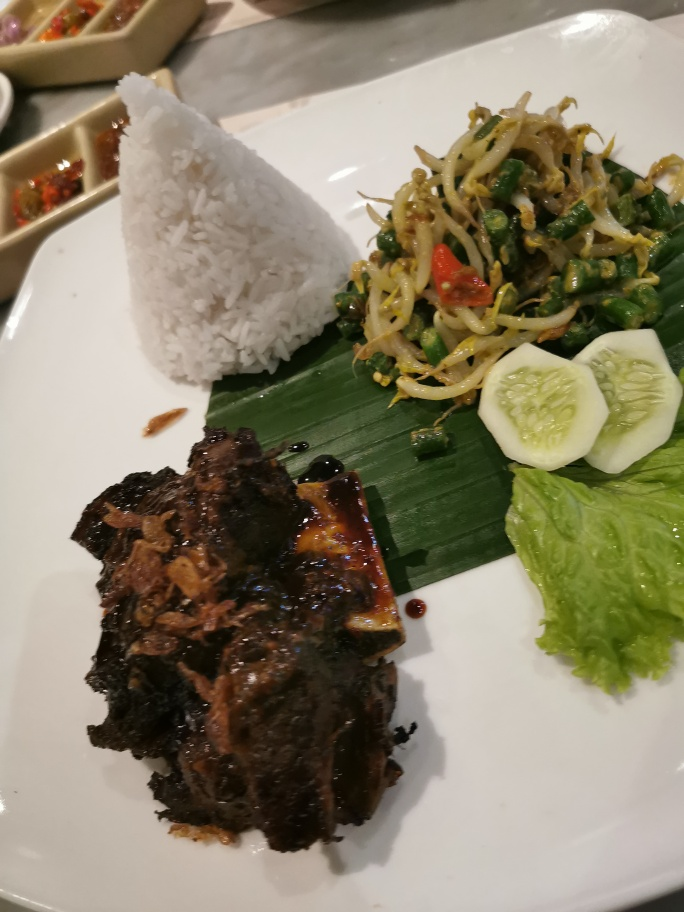iga bakar: (79, 452, 409, 835)
nasi putih: (88, 68, 360, 388)
